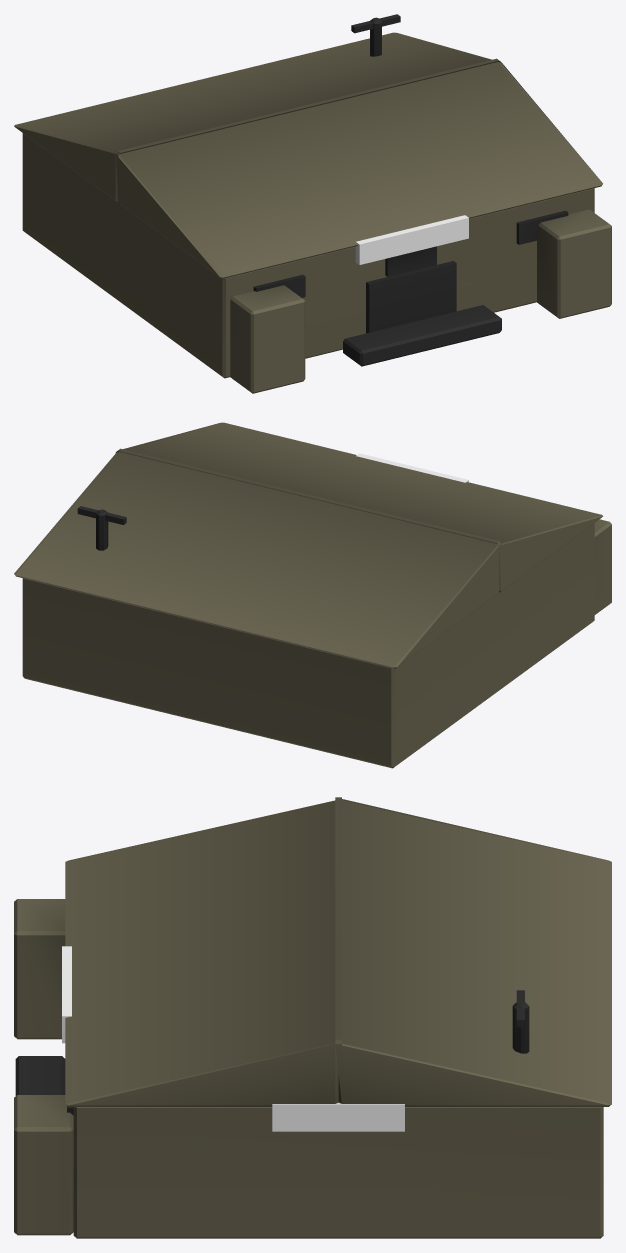
3 renders of one model, top to bottom at view 1: azimuth 30°, elevation 25°; view 2: azimuth 150°, elevation 25°; view 3: azimuth 270°, elevation 25°, orthographic. The views are drawn at different scales.
Visible parts, largest first — view 1: ru-hq; view 2: ru-hq; view 3: ru-hq.
Part boxes in pixels (<box>): ru-hq: <box>14,14,611,393</box>; ru-hq: <box>14,422,611,768</box>; ru-hq: <box>14,797,611,1238</box>.
Size of the model in its own units: 3.51 by 1.37 by 3.61.
